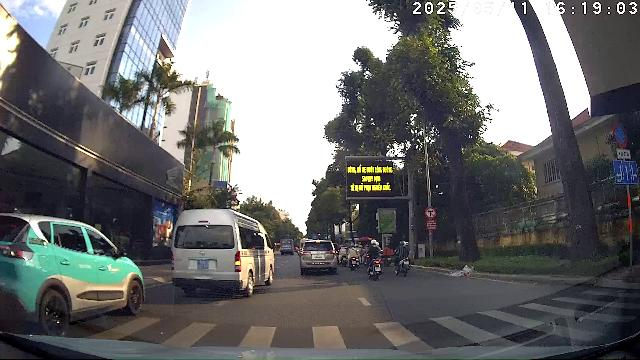131a-cam-do-xe: (612, 121, 628, 147)
137-cam-re-trai-va-re-phai: (425, 207, 437, 219)
